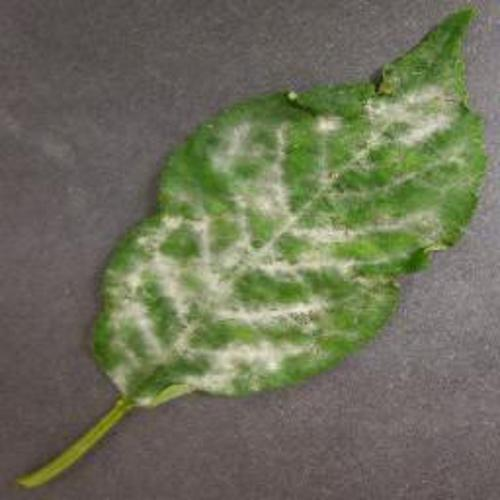Cherry: (19, 10, 487, 487)
